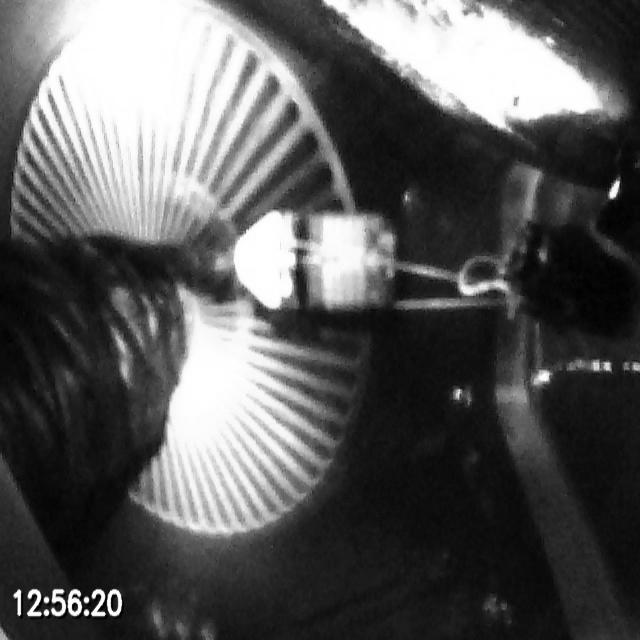head: (234, 212, 396, 314)
